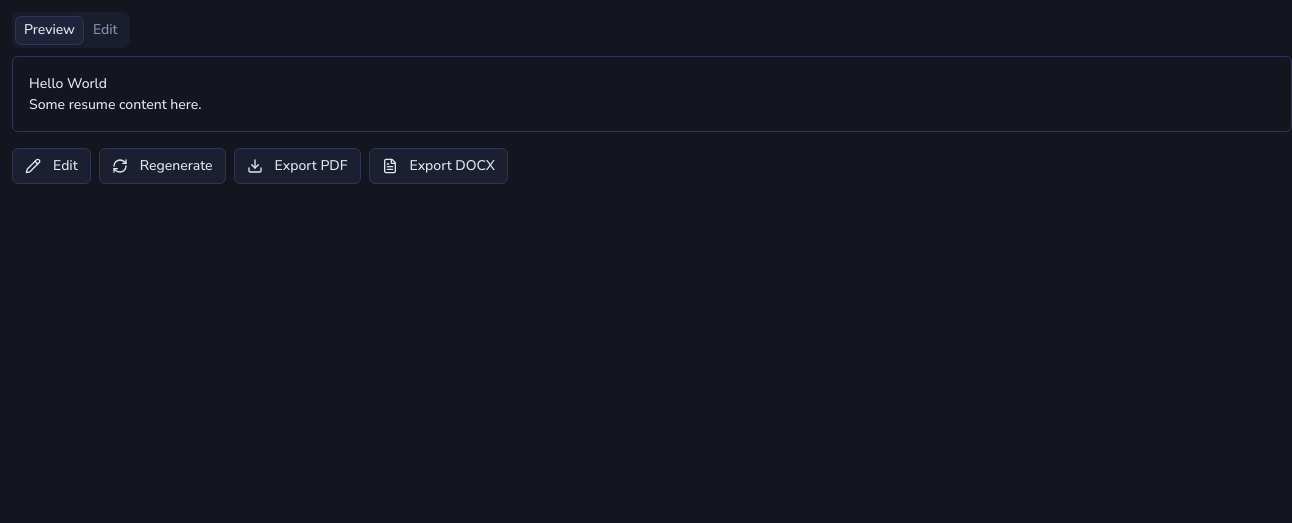
Test case: ResumeContentView › regeneration › opens options panel when Regenerate is clicked
The width and height of the screenshot is (1292, 523).
Click the button "Regenerate" at x=162, y=166, box top-left (99, 148), bottom-right (226, 184)
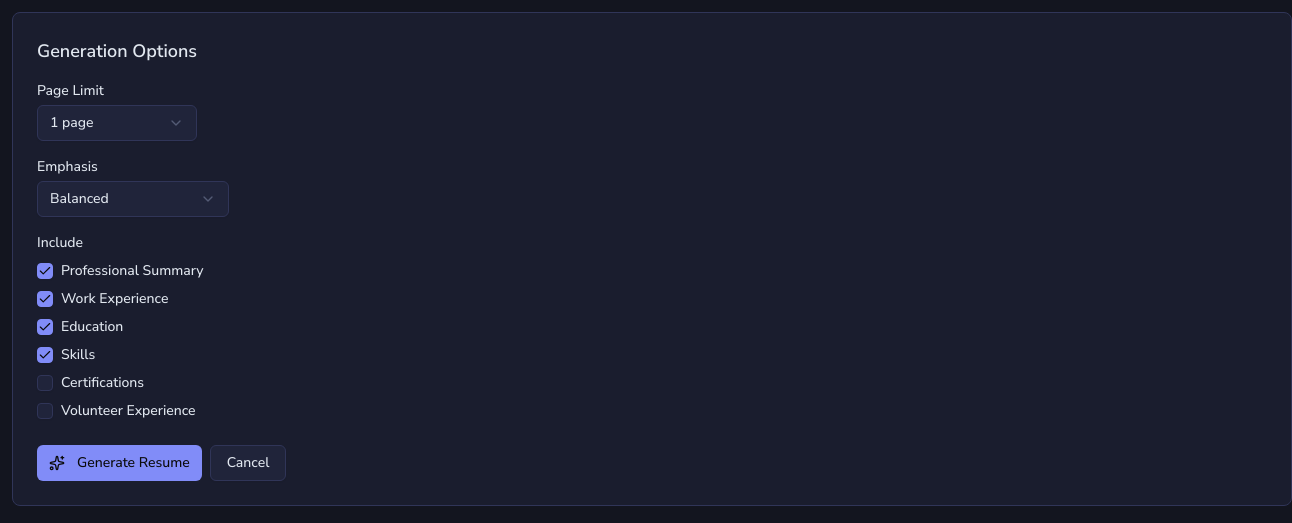
Check: the element with test id "generation-options-panel" is shown
